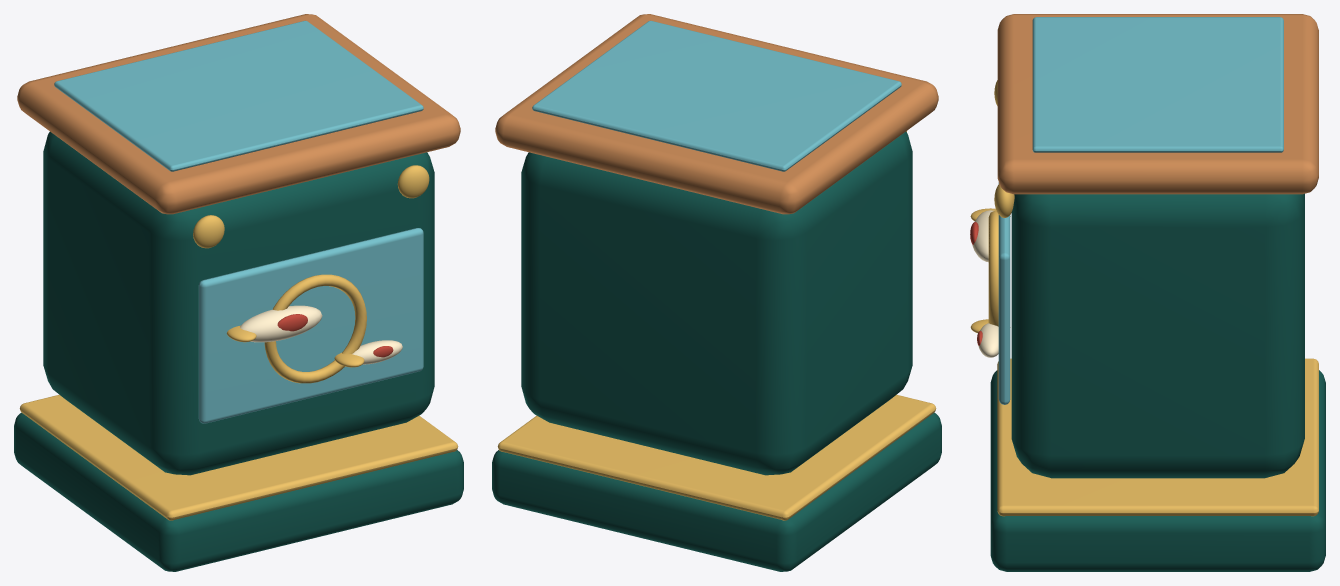
3 views of the same model, side by side, from view 1: azimuth 30°, elevation 25°; view 2: azimuth 150°, elevation 25°; view 3: azimuth 270°, elevation 25° (orthographic). The views are drawn at different scales.
Parts seen in each view (by area): view 1: Jade footing, Aquarium window, Boiler rim, Brass welt, Koi body, Koi tail, Koi patch; view 2: Jade footing, Aquarium window, Boiler rim, Brass welt; view 3: Jade footing, Aquarium window, Boiler rim, Brass welt, Koi body.
Part boxes in pixels (x1=…): Jade footing: x1=14, y1=131, x2=463, y2=571; Aquarium window: x1=54, y1=20, x2=423, y2=423; Boiler rim: x1=17, y1=14, x2=460, y2=214; Brass welt: x1=19, y1=165, x2=458, y2=520; Koi body: x1=240, y1=305, x2=402, y2=364; Koi tail: x1=226, y1=325, x2=364, y2=367; Koi patch: x1=277, y1=314, x2=393, y2=357; Jade footing: x1=492, y1=131, x2=941, y2=571; Aquarium window: x1=532, y1=20, x2=901, y2=171; Boiler rim: x1=495, y1=14, x2=938, y2=214; Brass welt: x1=497, y1=131, x2=936, y2=520; Jade footing: x1=990, y1=193, x2=1325, y2=571; Aquarium window: x1=998, y1=17, x2=1283, y2=404; Boiler rim: x1=997, y1=14, x2=1318, y2=194; Brass welt: x1=988, y1=80, x2=1318, y2=516; Koi body: x1=972, y1=210, x2=998, y2=357.
Size of the model in its own units: 0.8 by 0.988 by 0.764.
